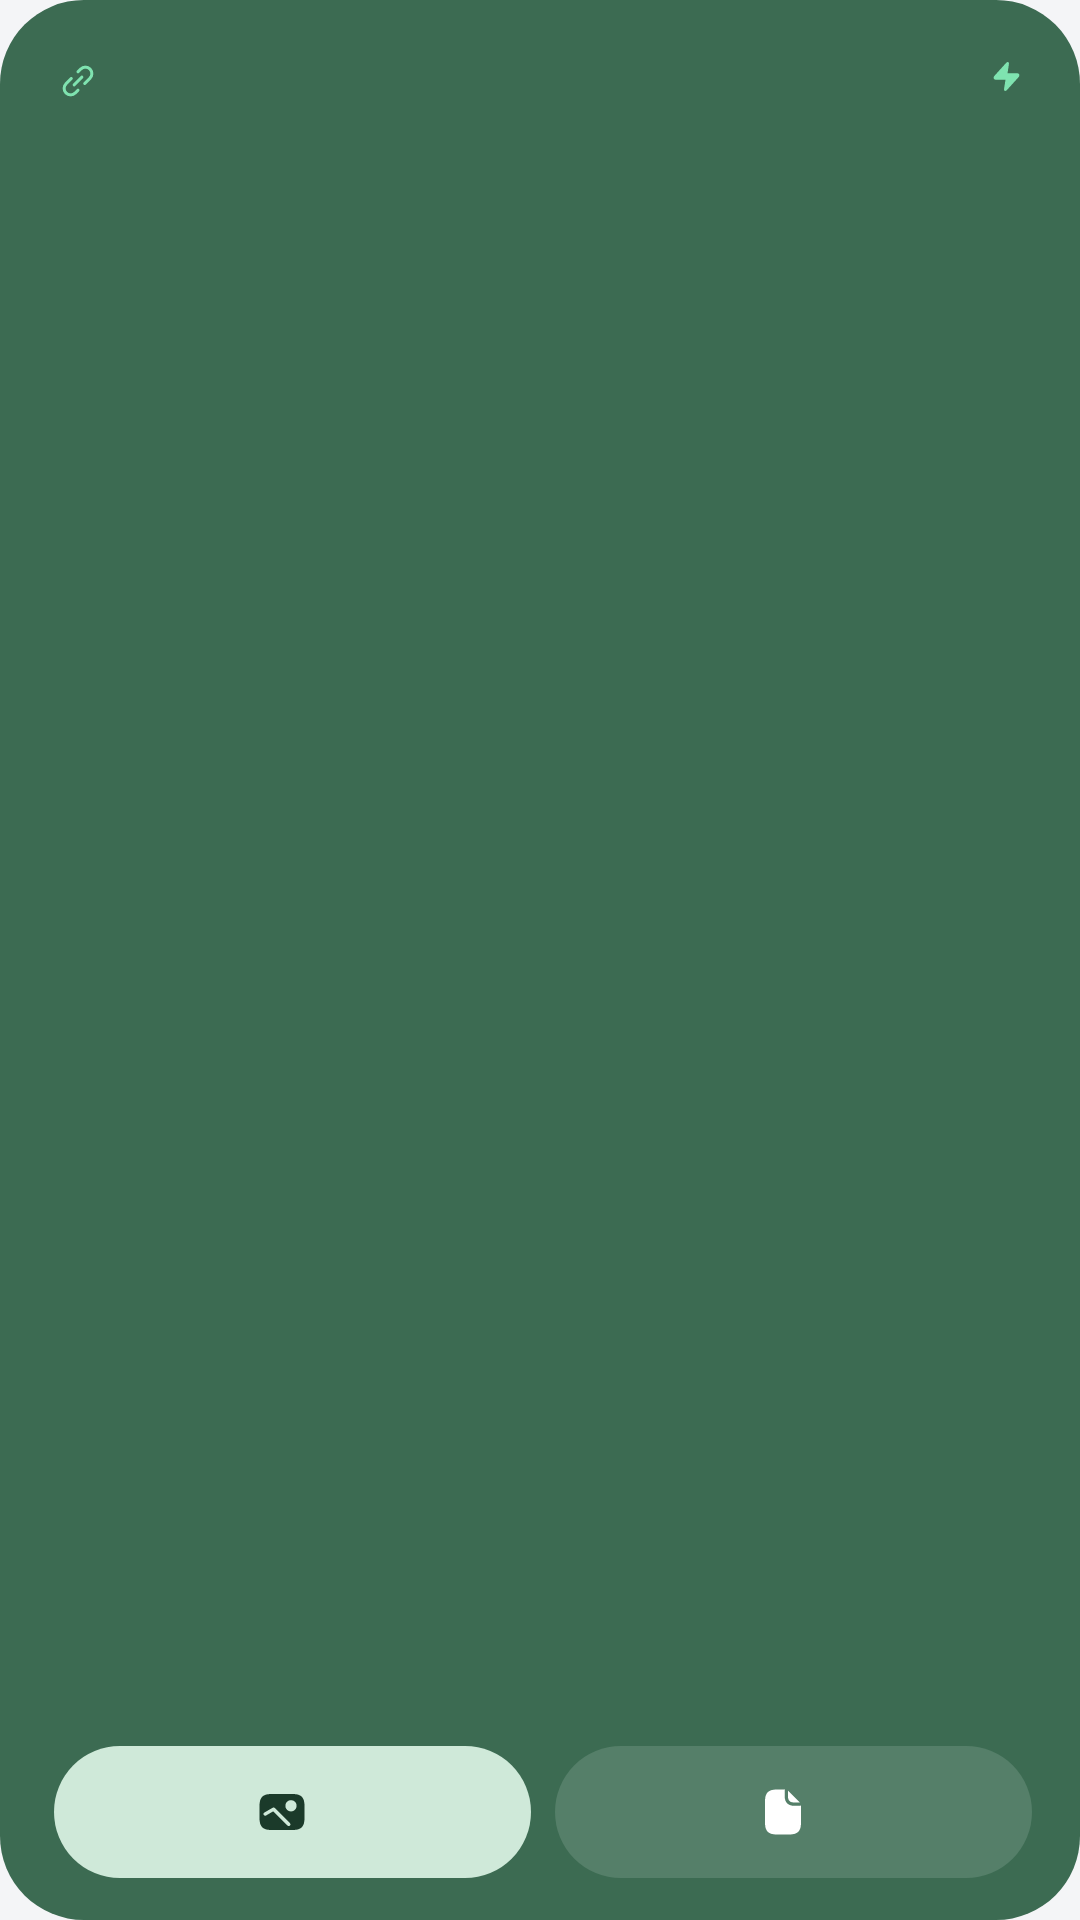

Screen size 1080px×1920px. Icon name, then its center in pixels as point (x, y):
widget charging: point (1006, 76)
widget link: point (78, 81)
